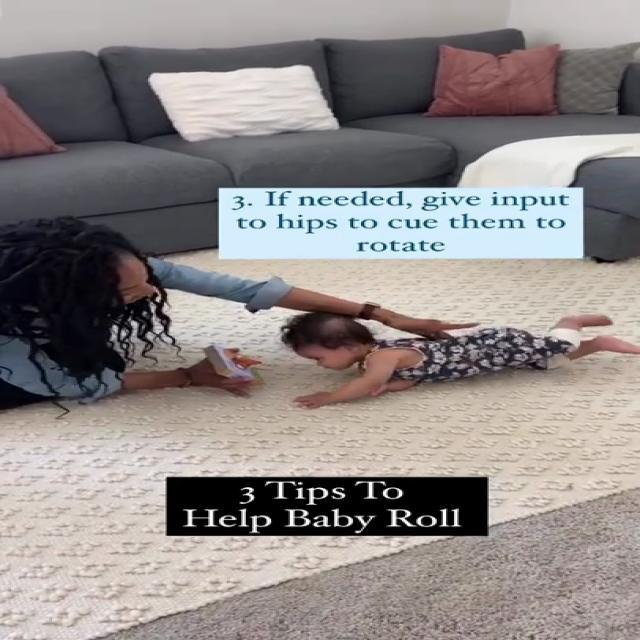baby: (278, 311, 640, 407)
